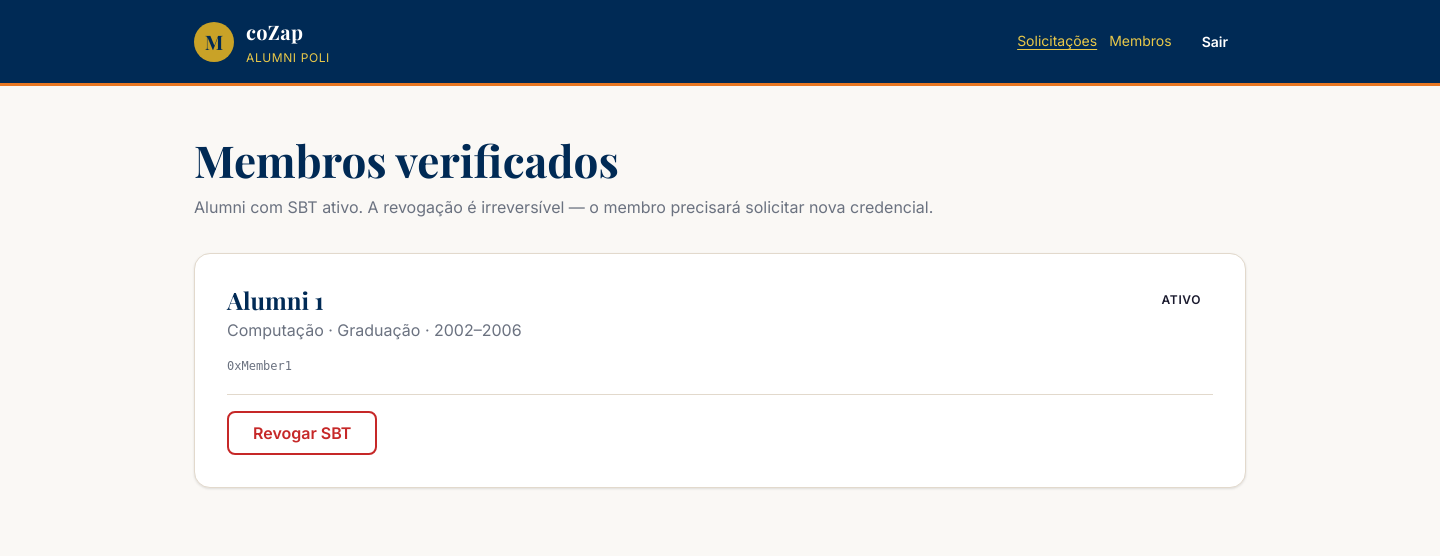
Test: MembrosPage › membro removido da lista após revogação
expect the heading "Alumni 1" is shown: met, box top-left (227, 284), bottom-right (324, 316)
Click the button "Revogar SBT" at (302, 433), box top-left (227, 411), bottom-right (377, 455)
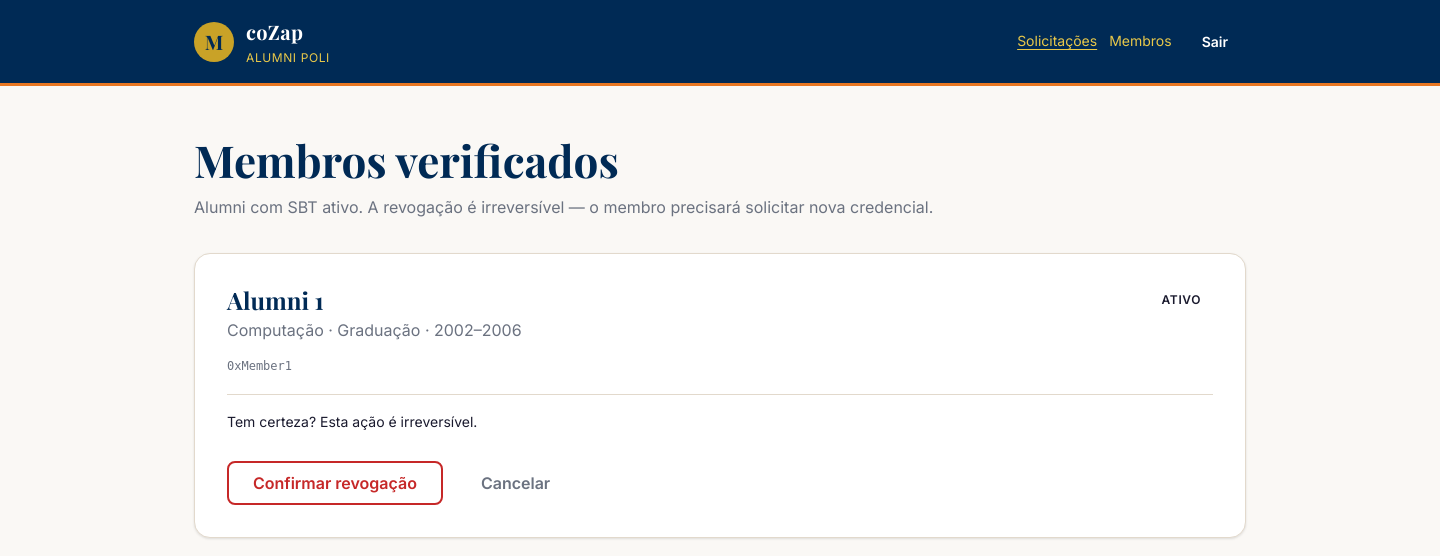
Click the button "Confirmar revogação" at (335, 483), box top-left (227, 461), bottom-right (443, 505)
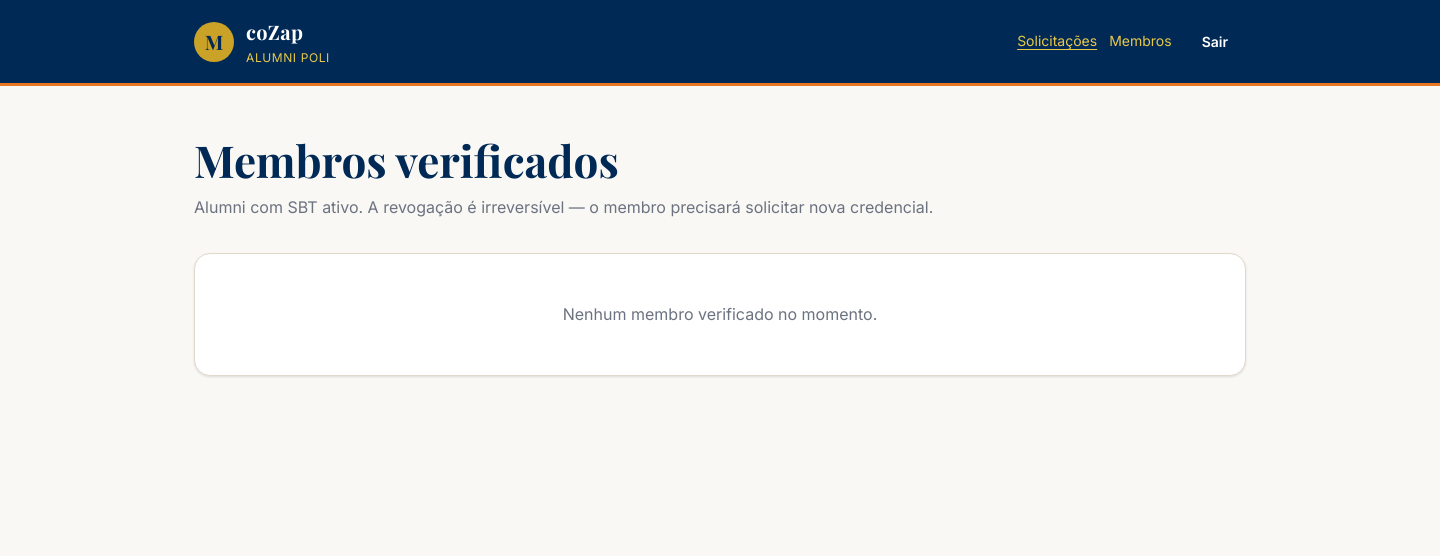
expect the heading "Alumni 1" is gone: met
